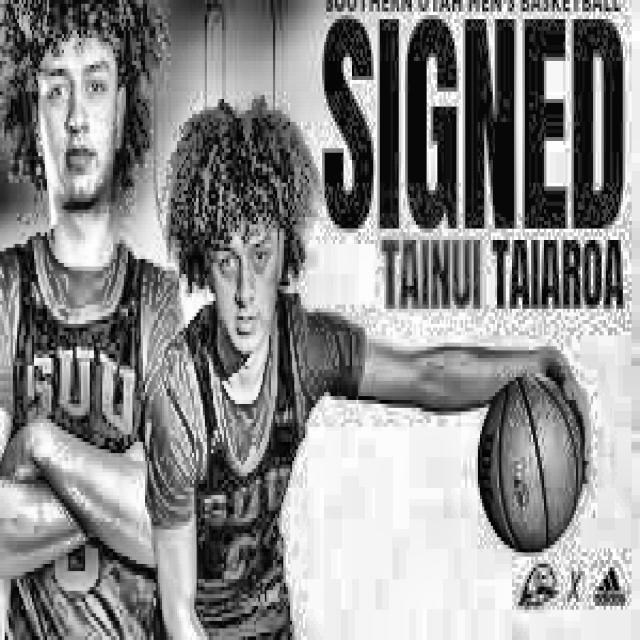Basketball: (480, 377, 585, 552)
